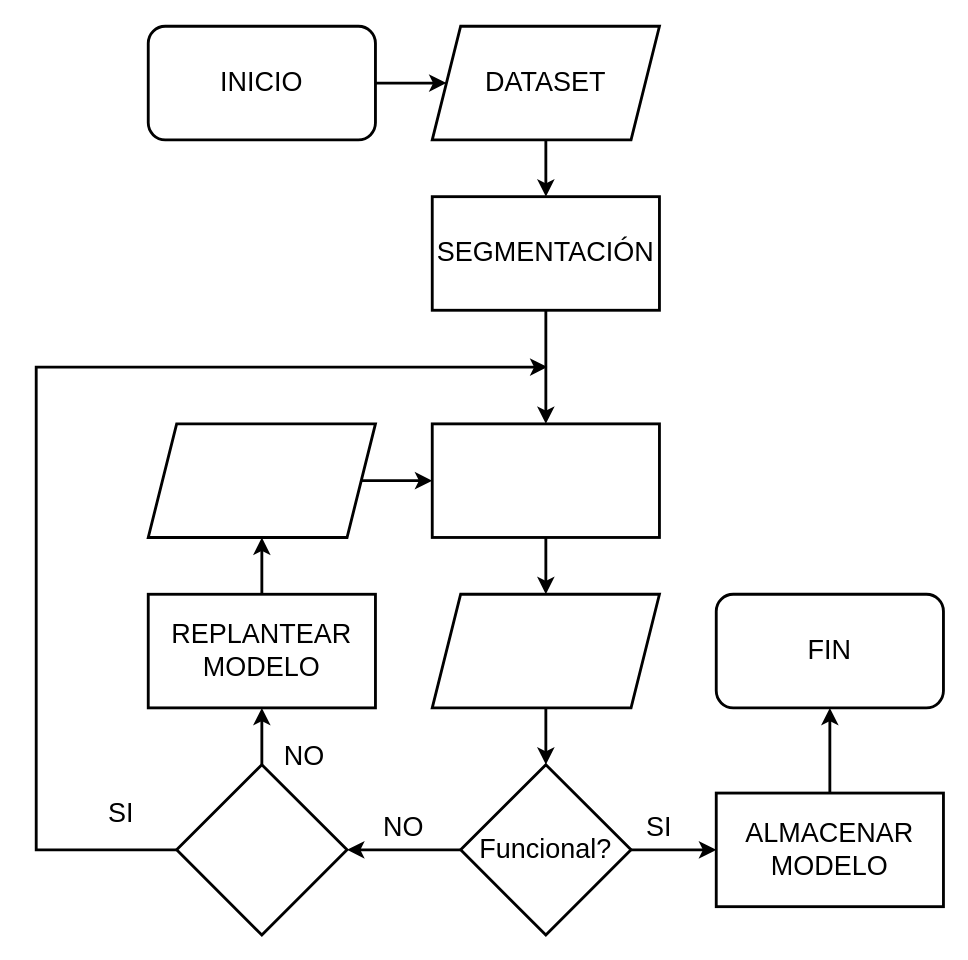
The diagram is 968 pixels wide and 960 high, and some of its shapes have lost their labels. The shapes that lost their labels are listed below. From the top down, each one's centre as x and y in pixels, then its label:
point 261,480: MODELO DE RN
point 545,480: ENTRENAMIENTO
point 545,650: MODELO ENTRENADO
point 261,849: Exactitud >=75%
